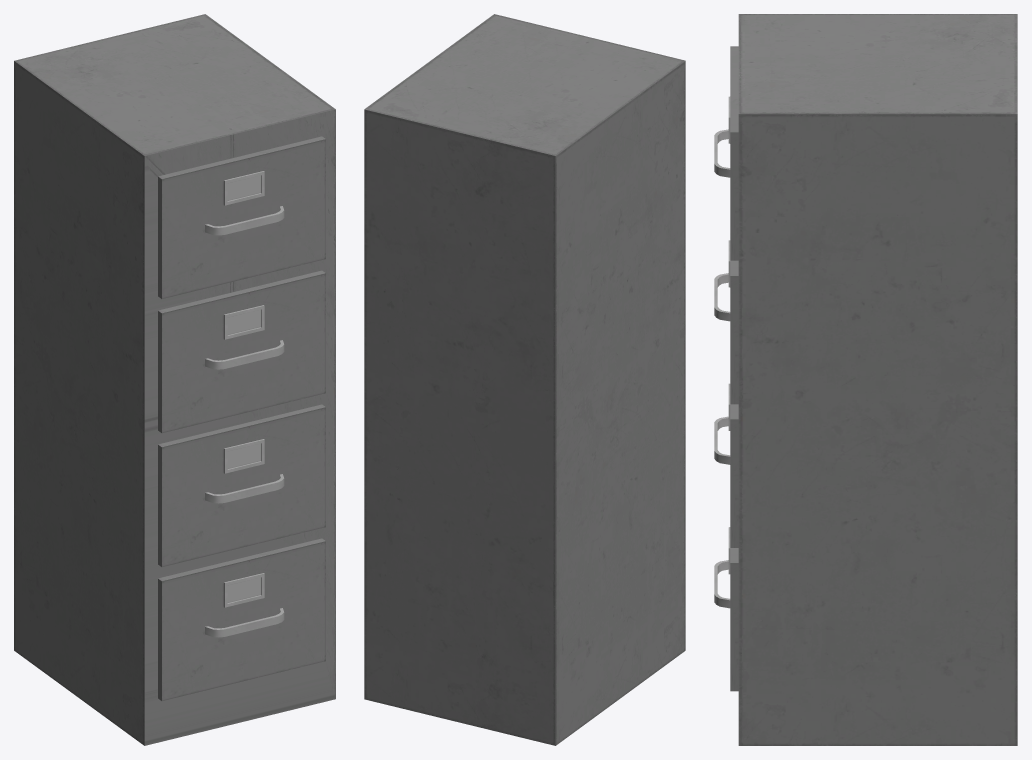
File: propFileCabinet.fbx
3 views of the same model, side by side, from view 1: azimuth 30°, elevation 25°; view 2: azimuth 150°, elevation 25°; view 3: azimuth 270°, elevation 25° (orthographic). The views are drawn at different scales.
Visible parts, largest first — view 1: propFileCabinet; view 2: propFileCabinet; view 3: propFileCabinet.
Part boxes in pixels (left/top/right/bottom): propFileCabinet: left=14, top=14, right=335, bottom=745; propFileCabinet: left=364, top=14, right=685, bottom=745; propFileCabinet: left=714, top=14, right=1017, bottom=745.
Size of the model in its own units: 50.3 by 148 by 64.46.
2 materials, 2 textured.
